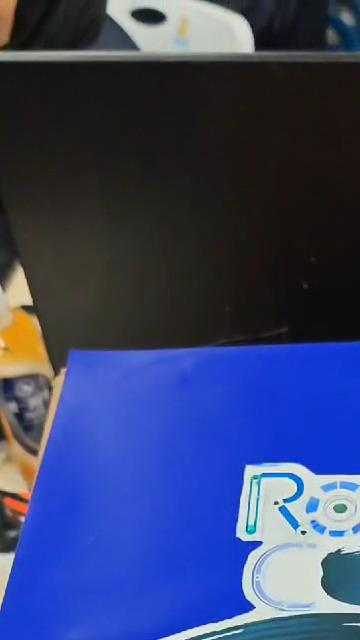B_R1: (8, 439, 360, 640)
